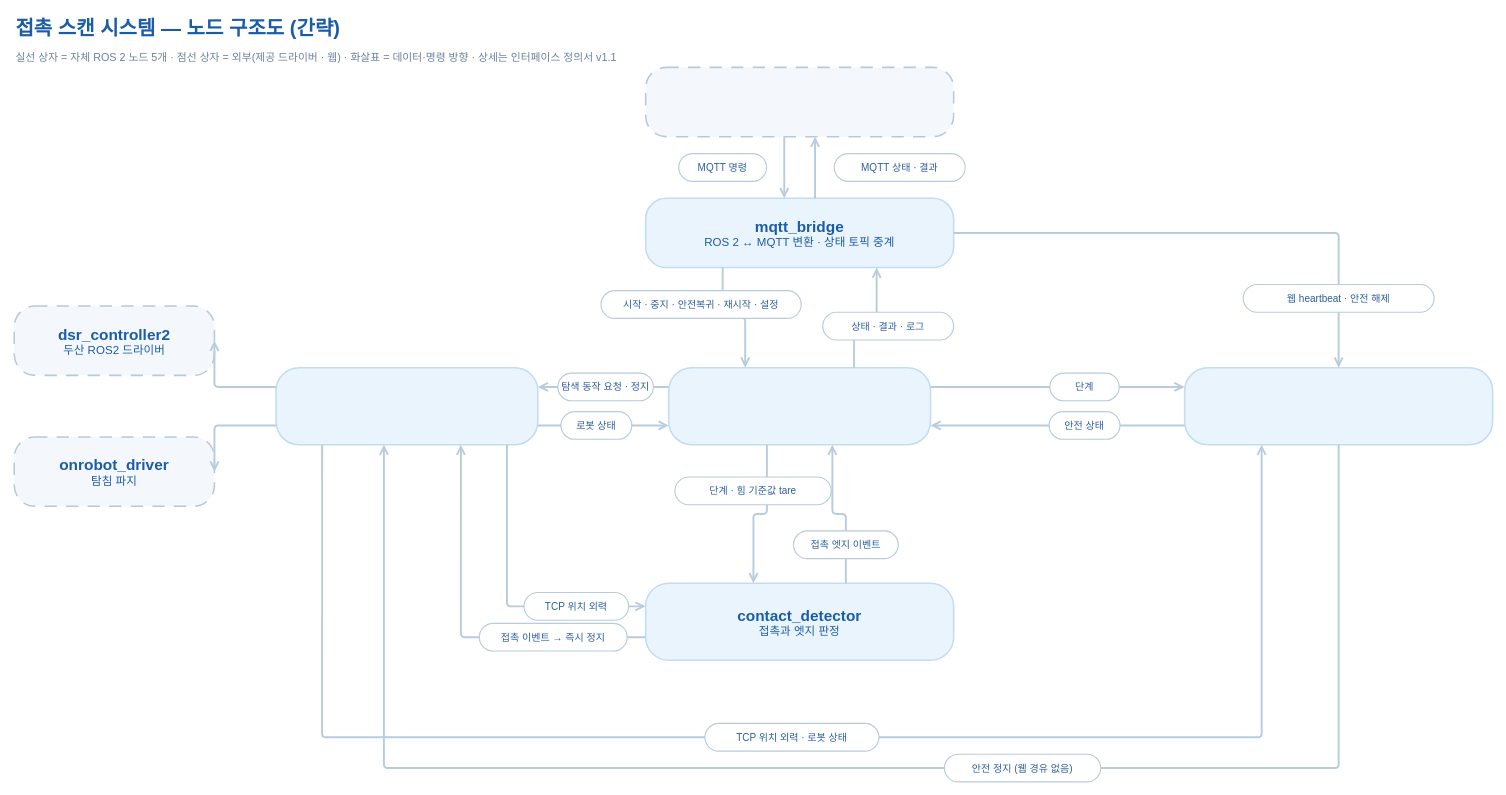
This 1506x795 diagram has some shape labels left out. The shapes that lost their labels are listed below. From the top down, each one's centre as x and y in pixels, then its label:
(799,101): 웹 관제 React · FastAPI · MQTT Broker
(406,406): robot_manager M0609 명령과 상태 수집
(799,406): scan_manager 상태 머신 · 작업 제어 · 형상 계산 · 원본 보관
(1338,406): safety_monitor 이상 감시와 로컬 정지
